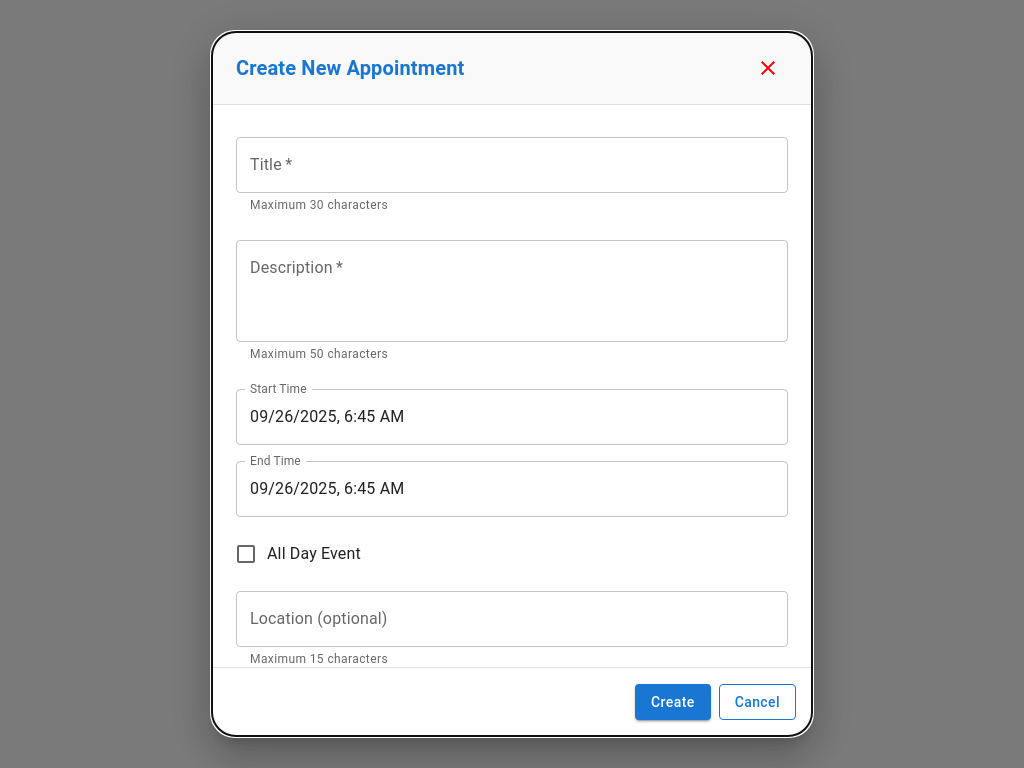
AppointmentForm Component › enforces character limits on inputs
Note: Title has a 30 character limit
Type "This is a very long title that exceeds the character limit" into the field labelled "Title *" at (512, 165), box 236,137 -> 788,193
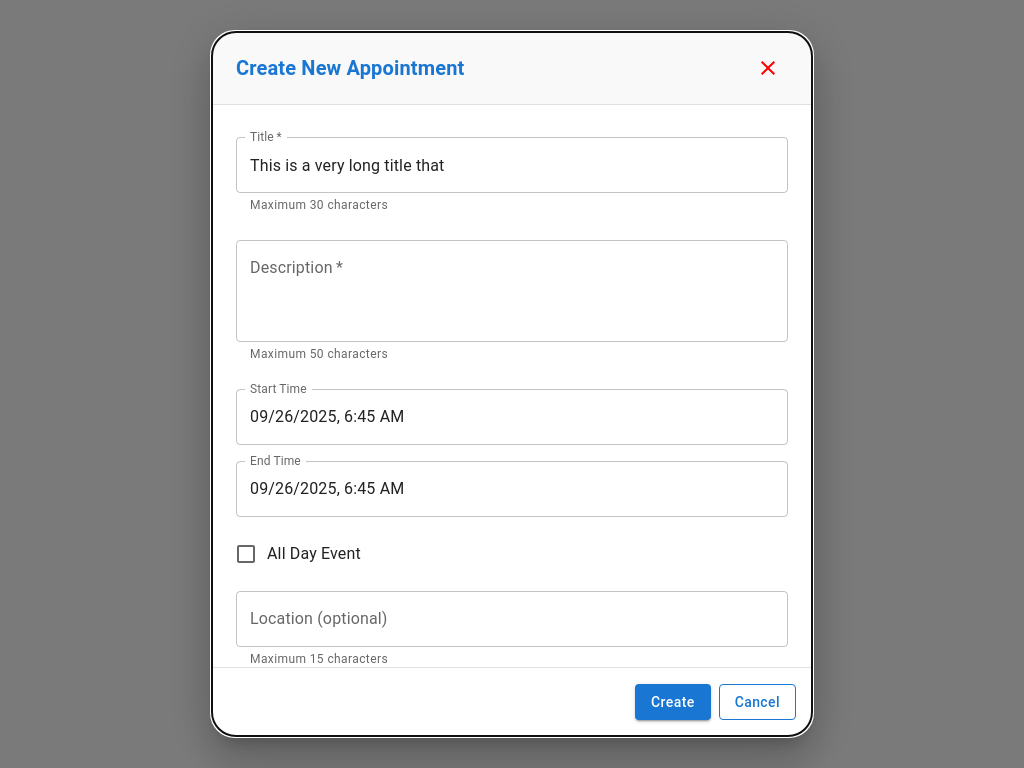
Check: the field labelled "Title *" holds "This is a very long title that", box 236,137 -> 788,193
Note: Description has a 50 character limit
Type "This is a very long description that definitely exceeds the character limit set for this field" into the text box labelled "Description *" at (512, 291), box 250,256 -> 774,325
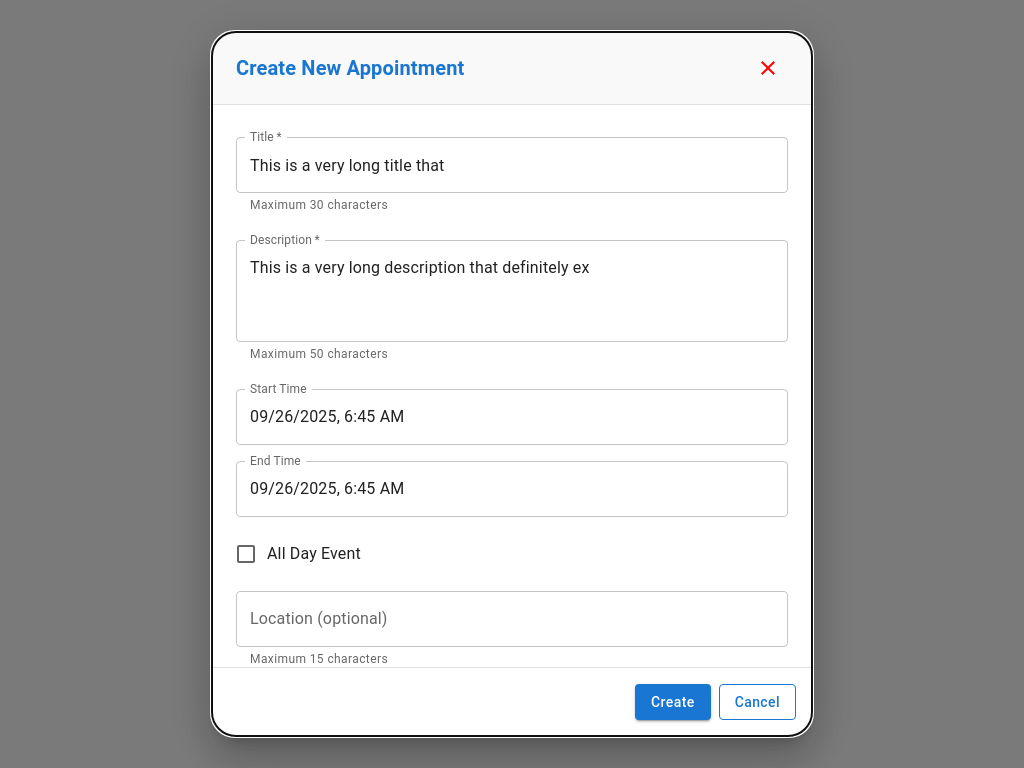
Check: the text box labelled "Description *" holds "This is a very long description that definitely ex", box 250,256 -> 774,325
